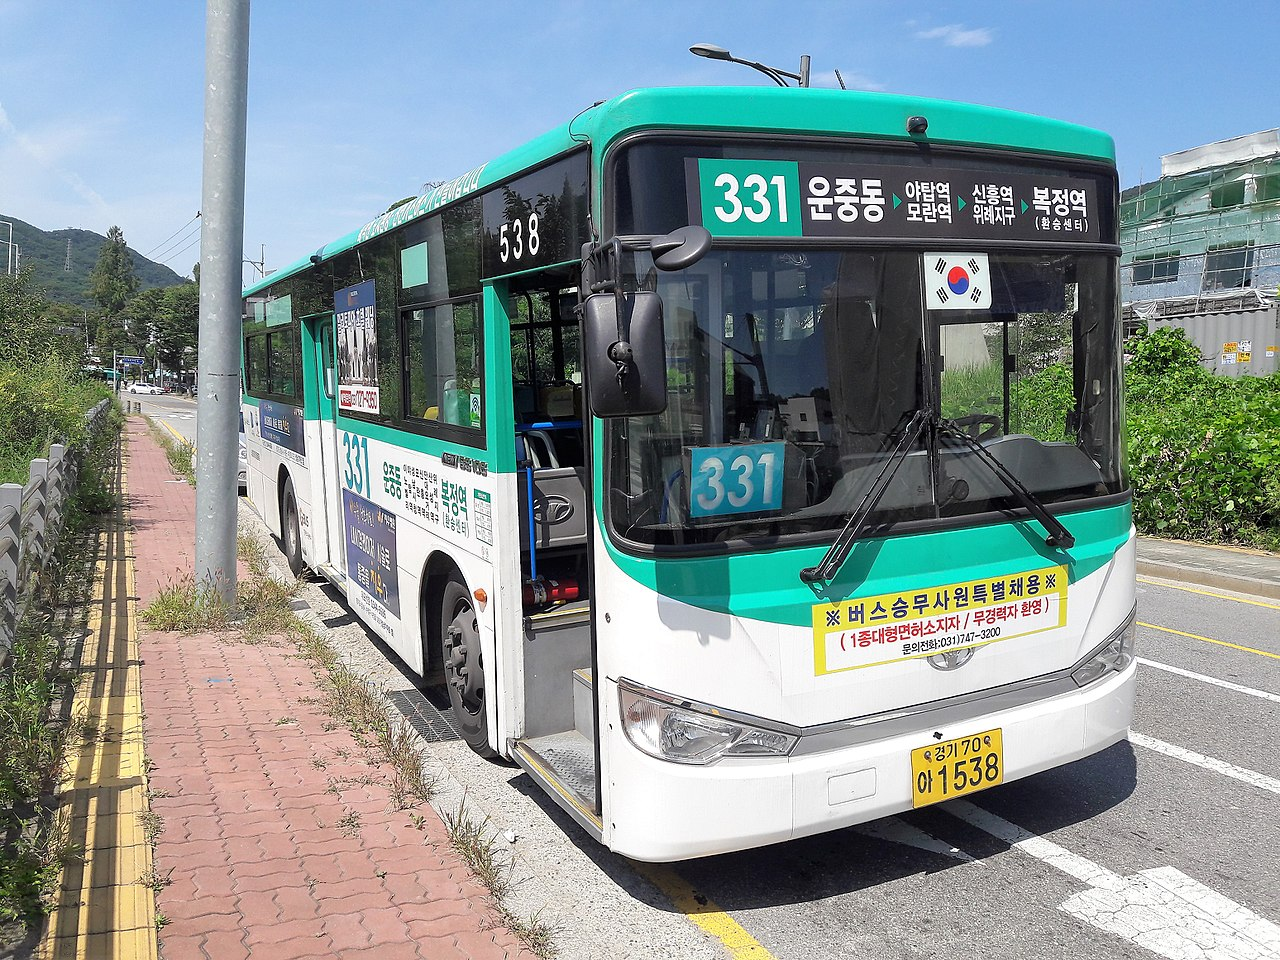bnum: (703, 158, 798, 237)
